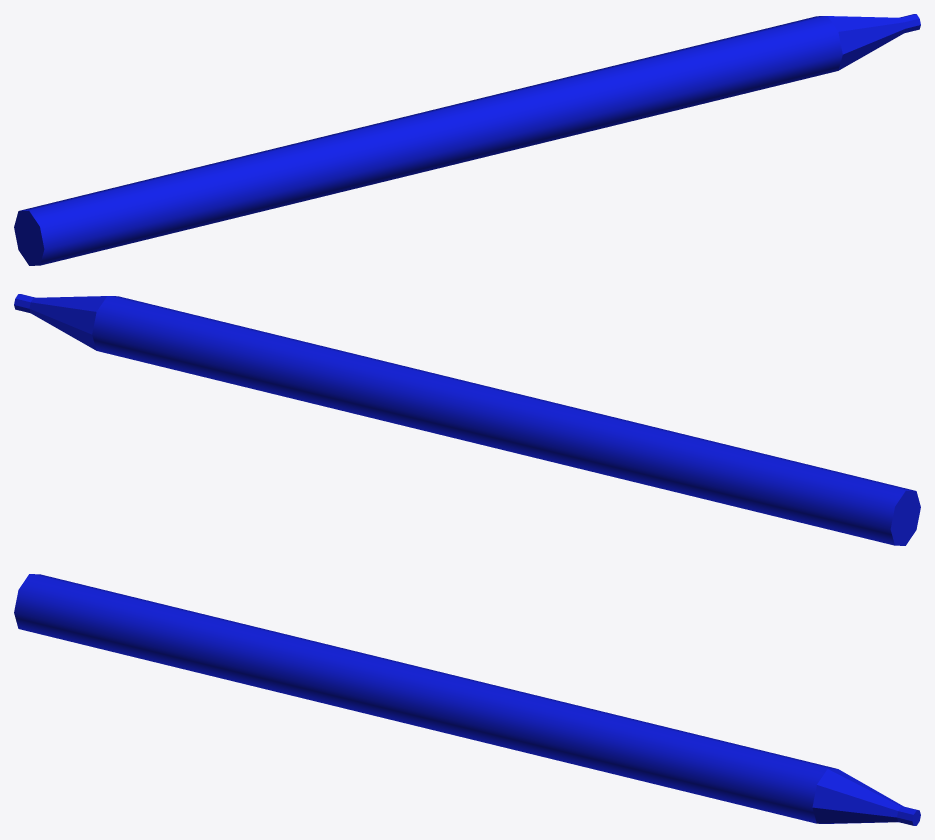
The model's file is Lapicero.FBX.
3 renders of one model, top to bottom at view 1: azimuth 30°, elevation 25°; view 2: azimuth 150°, elevation 25°; view 3: azimuth 330°, elevation 25°, orthographic.
Visible parts, largest first — view 1: Lapicero; view 2: Lapicero; view 3: Lapicero.
Part boxes in pixels (x1,y1,x2,y2): Lapicero: (14, 14, 920, 265); Lapicero: (14, 294, 920, 545); Lapicero: (14, 574, 920, 825).
Bounding box in the file's own units: 0.6416 × 0.0381 × 0.0381.
